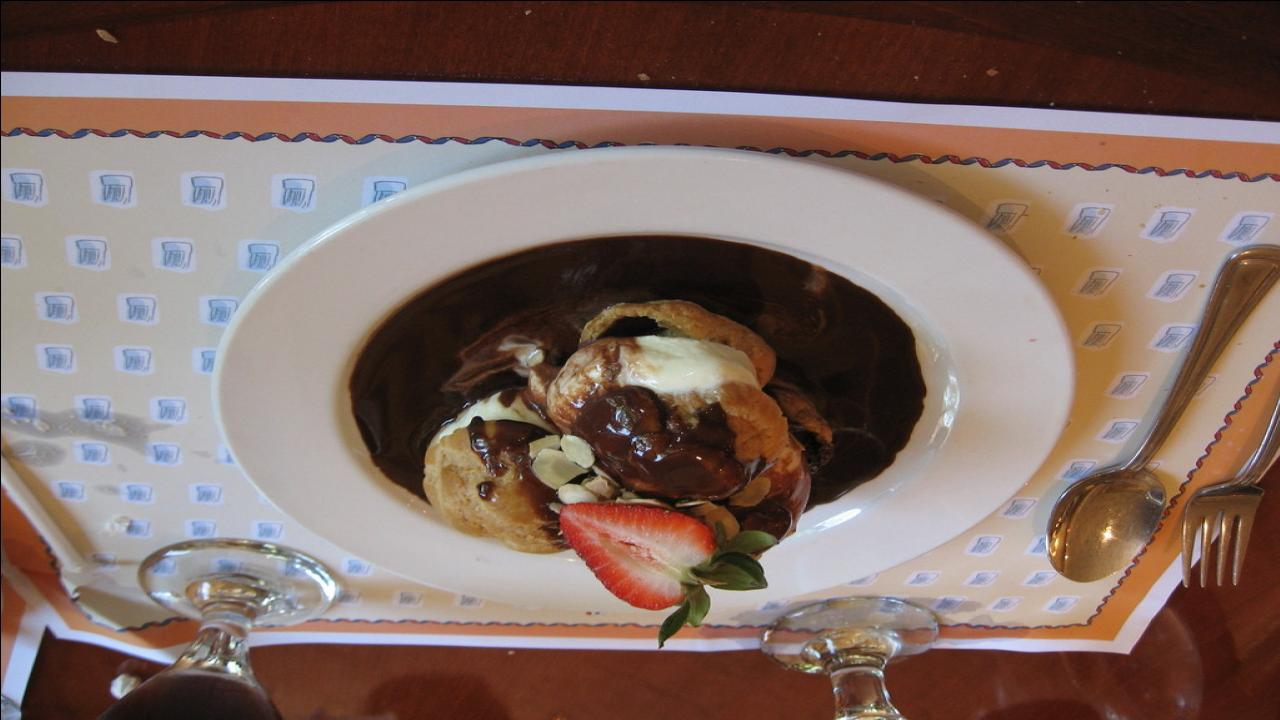fork: (1171, 397, 1279, 592)
